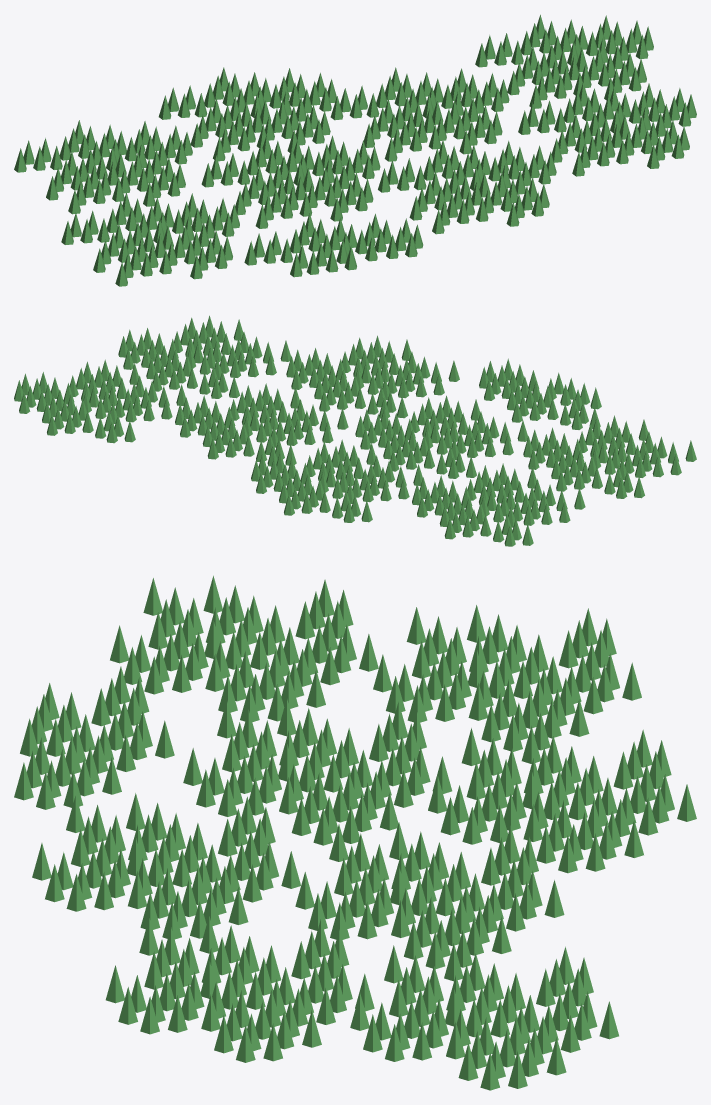
File: forest2.fbx
The picture shows the model from 3 angles, top to bottom: view 1: azimuth 30°, elevation 25°; view 2: azimuth 150°, elevation 25°; view 3: azimuth 270°, elevation 25°; orthographic projection. The views are drawn at different scales.
Size of the model in its own units: 403 by 13.23 by 240.
